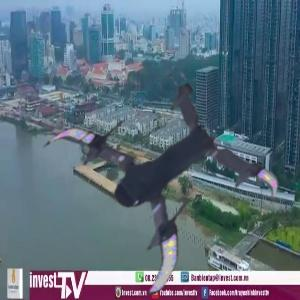drone: (44, 75, 259, 290)
